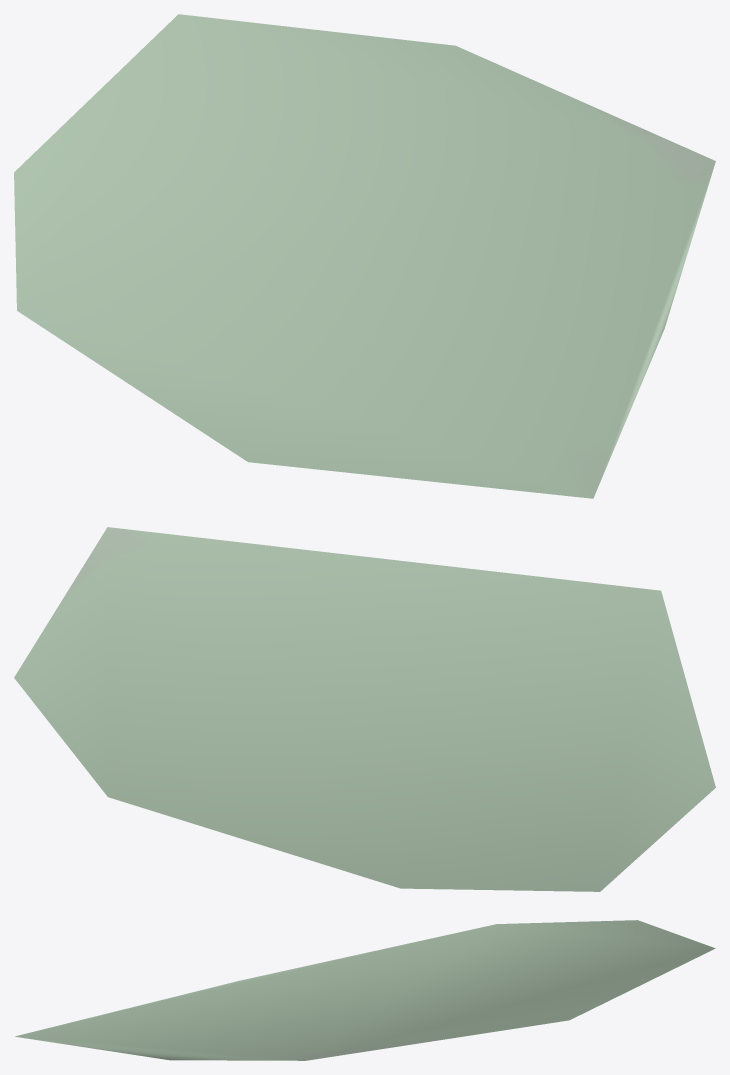
The model's file is TROLLHOLE02_HOLECAP62.fbx.
The picture shows the model from 3 angles, top to bottom: view 1: azimuth 30°, elevation 25°; view 2: azimuth 150°, elevation 25°; view 3: azimuth 270°, elevation 25°; orthographic projection. The views are drawn at different scales.
Visible parts, largest first — view 1: TROLLHOLE02_HOLECAP62; view 2: TROLLHOLE02_HOLECAP62; view 3: TROLLHOLE02_HOLECAP62.
Part boxes in pixels (bbox=[...]): TROLLHOLE02_HOLECAP62: bbox=[14, 14, 715, 498]; TROLLHOLE02_HOLECAP62: bbox=[14, 527, 715, 891]; TROLLHOLE02_HOLECAP62: bbox=[15, 920, 715, 1060].
Size of the model in its own units: 16727 by 4471 by 23197.
Materials: 1 (1 with a texture image).
